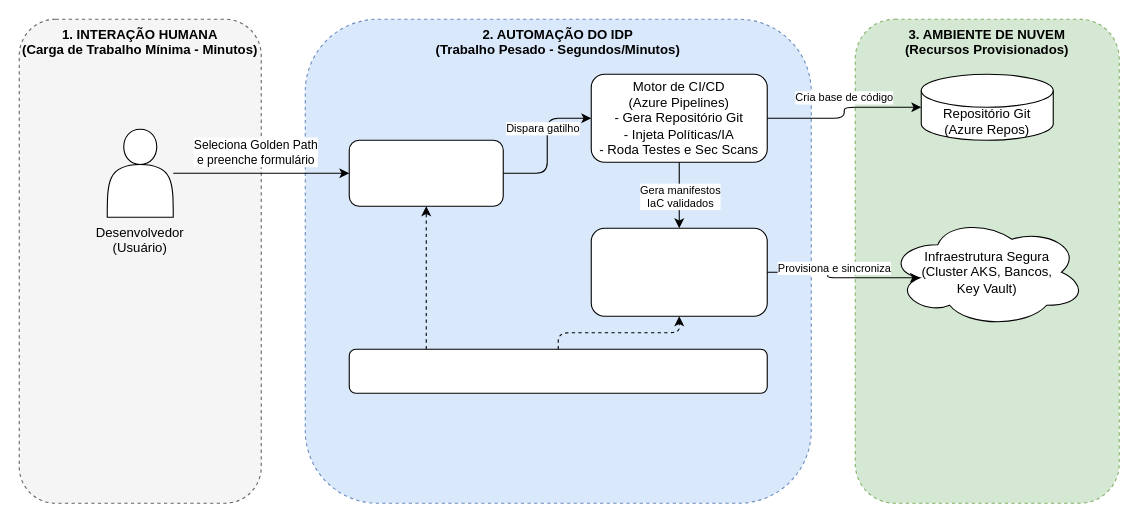
Image size: 1139x523. Some labels were removed from this diagram. Each missing label, with the centre of its shape:
GitOps & IaC (ArgoCD + Crossplane) - Validações Kyverno - Declaração de Estado: point 678,271
Portal do IDP (Backstage) Catálogo & Templates: point 425,172
Registro no Catálogo & FinOps (Tagueamento): point 557,370
